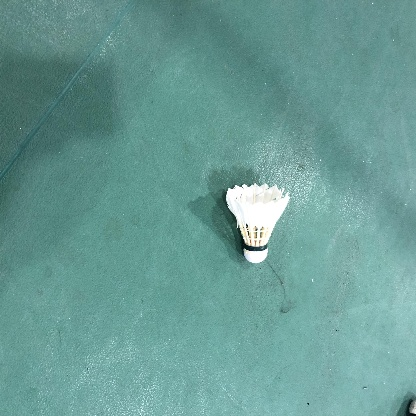ball_single: (226, 183, 290, 263)
